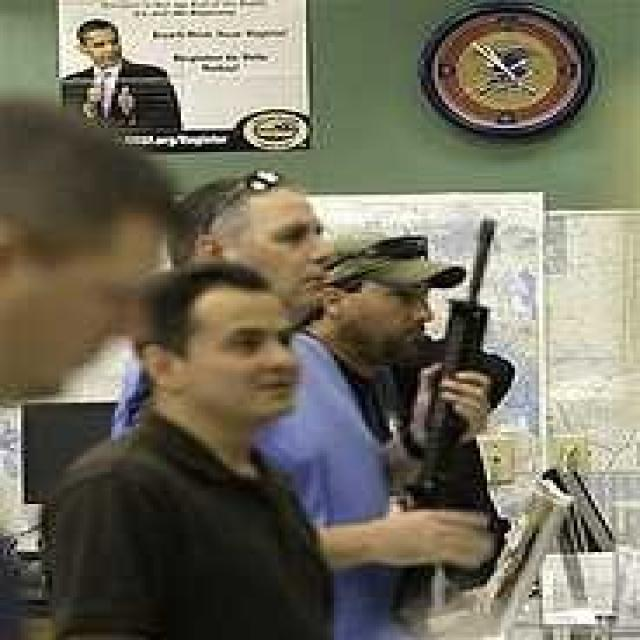Rifle: (389, 210, 544, 601)
